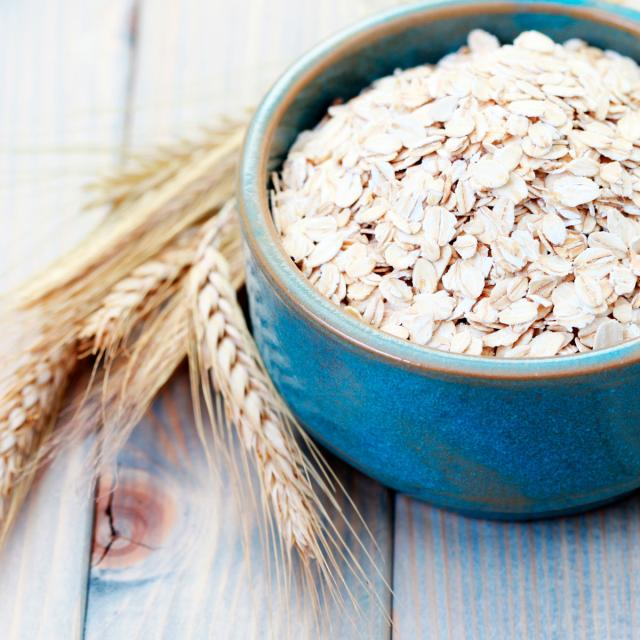avena: (290, 22, 635, 344)
